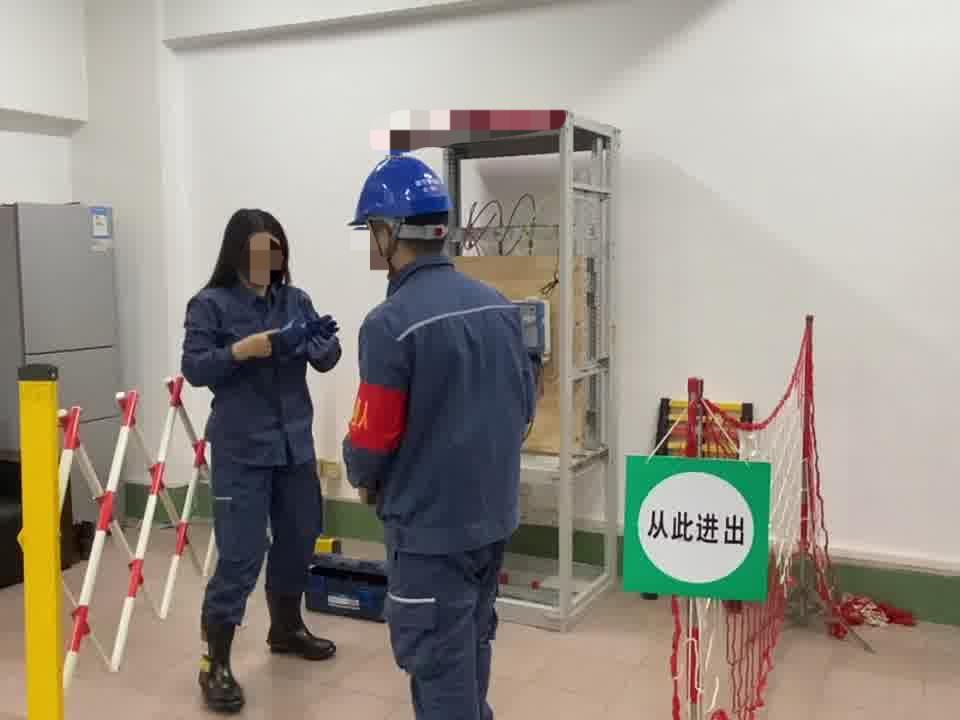halt: (352, 157, 459, 276)
inear: (371, 219, 404, 270)
unhalt: (218, 210, 294, 290)
